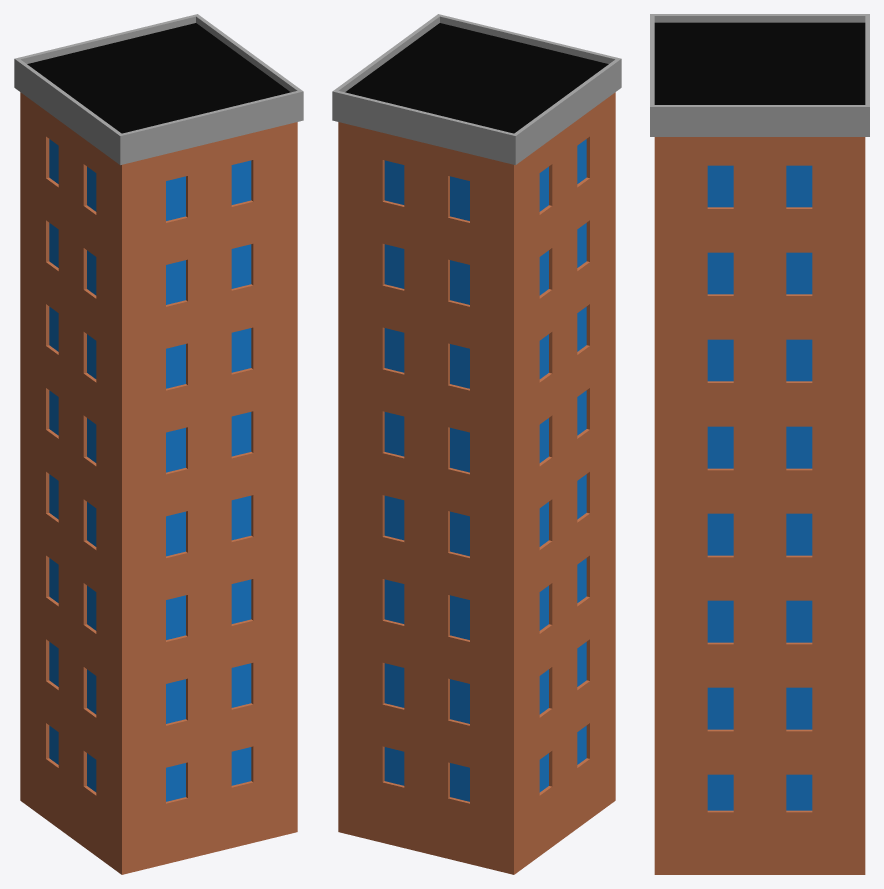
The model's file is Basic_Sky_Scraper_Tall.fbx.
3 views of the same model, side by side, from view 1: azimuth 30°, elevation 25°; view 2: azimuth 150°, elevation 25°; view 3: azimuth 270°, elevation 25° (orthographic). The views are drawn at different scales.
Visible parts, largest first — view 1: Basic_Tall; view 2: Basic_Tall; view 3: Basic_Tall.
Boxes of the visible parts, x1=… form: Basic_Tall: x1=14, y1=14, x2=303, y2=874; Basic_Tall: x1=332, y1=14, x2=621, y2=874; Basic_Tall: x1=650, y1=14, x2=869, y2=874.
Size of the model in its own units: 208 by 208 by 803.
